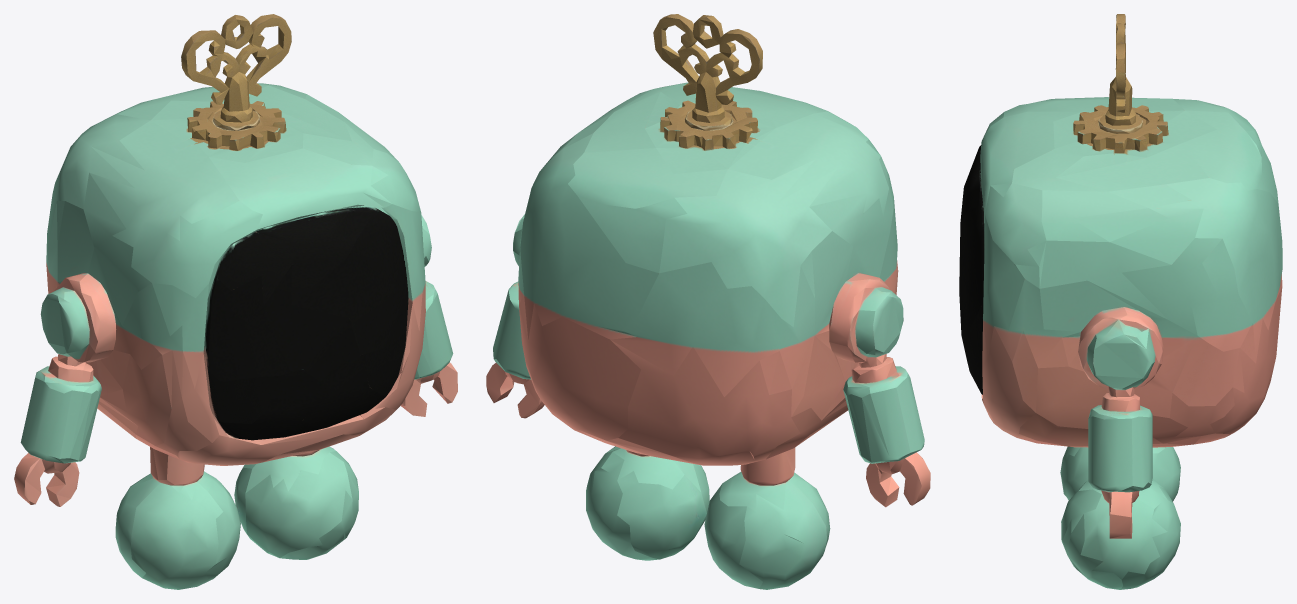
Rendered from toy_robot.glb.
3 renders of one model, left to right at view 1: azimuth 30°, elevation 25°; view 2: azimuth 150°, elevation 25°; view 3: azimuth 270°, elevation 25°, orthographic. The views are drawn at different scales.
Bounding box in the file's own units: 1.56 × 1.9 × 1.05.
Materials: 1 (1 with a texture image).
